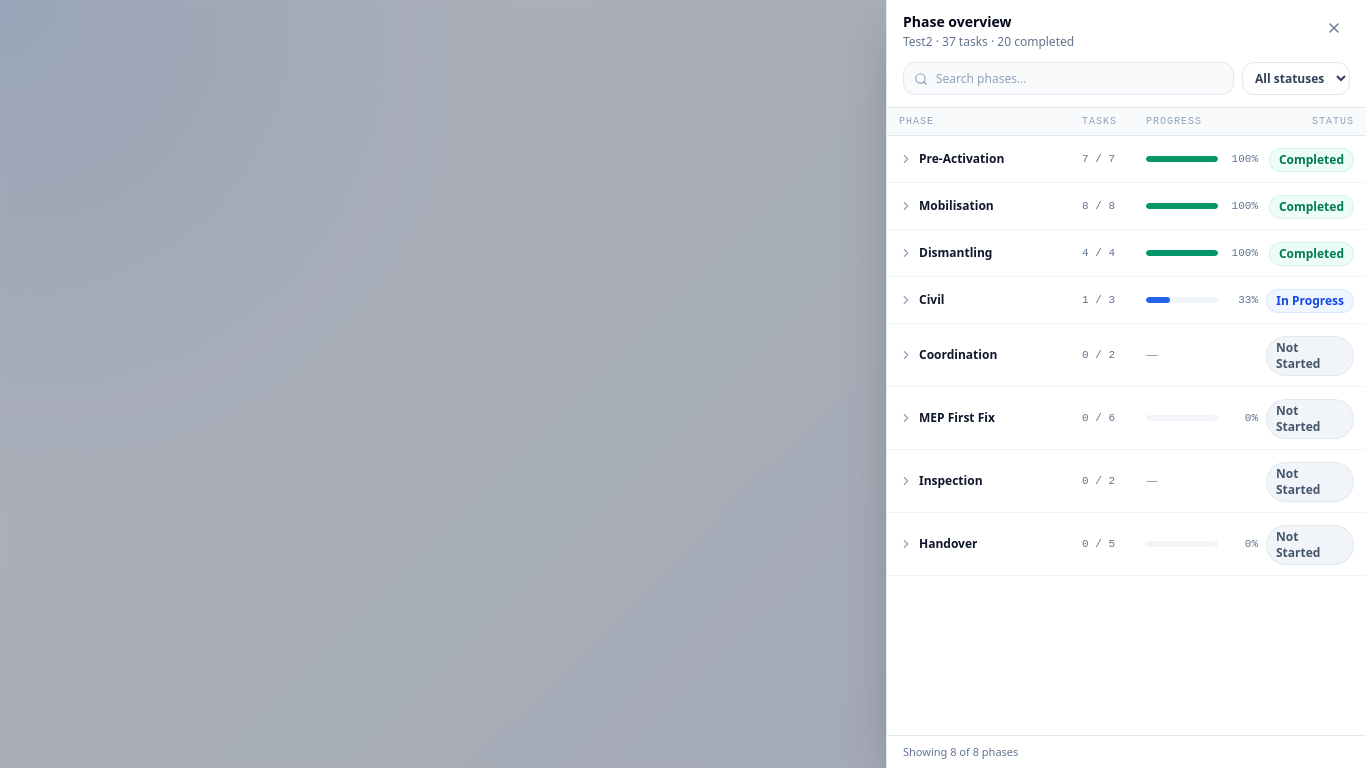
Test: Phase overview drawer › loads tasks once, on first expand
This screenshot has width=1366, height=768.
Click the button "Civil 1 / 3 33% In progress".
click(1182, 300)  # box [887,277,1365,324]
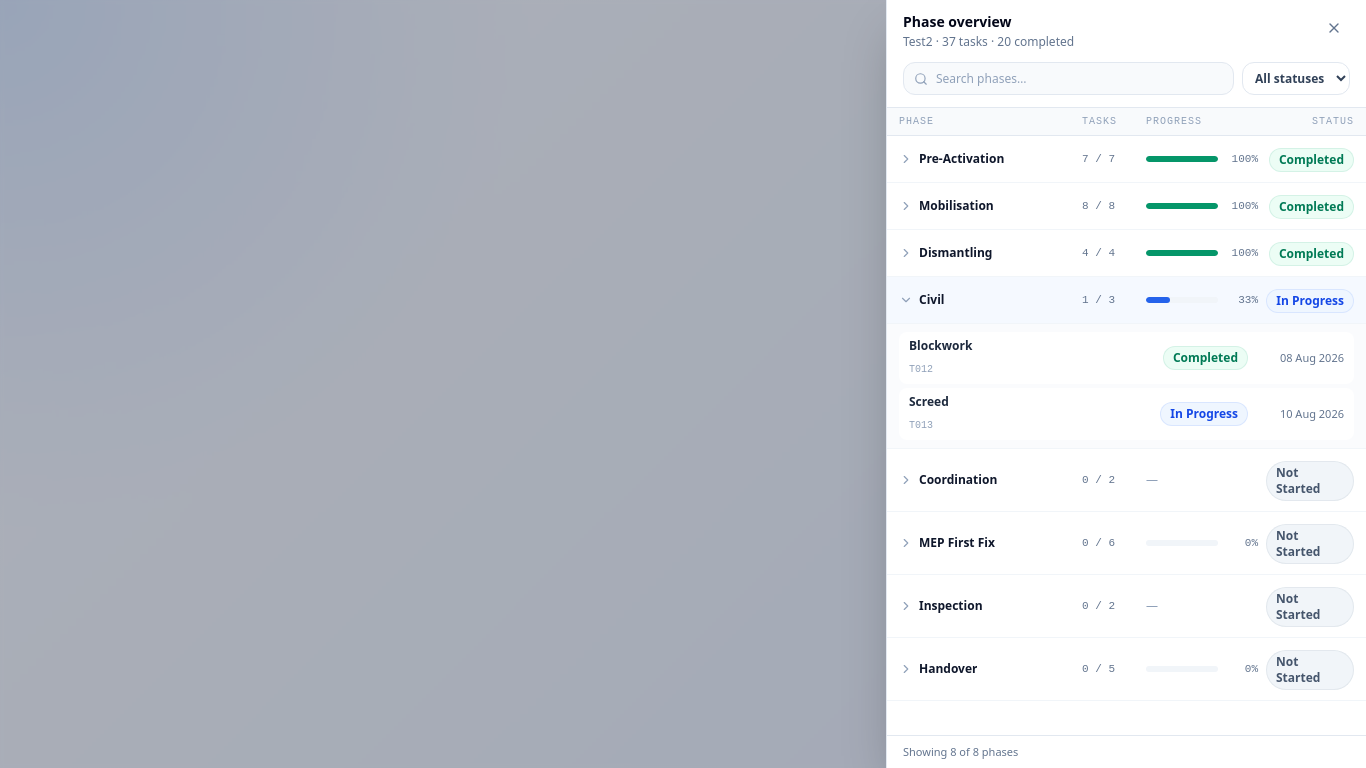
Check: the text "Conduiting" is not shown
Check: the text "Blockwork" is shown, box [909,337,972,354]
Check: the text "Screed" is shown, box [909,393,949,410]
Click the button "Civil 1 / 3 33% In progress".
click(1182, 300)  # box [887,277,1365,324]
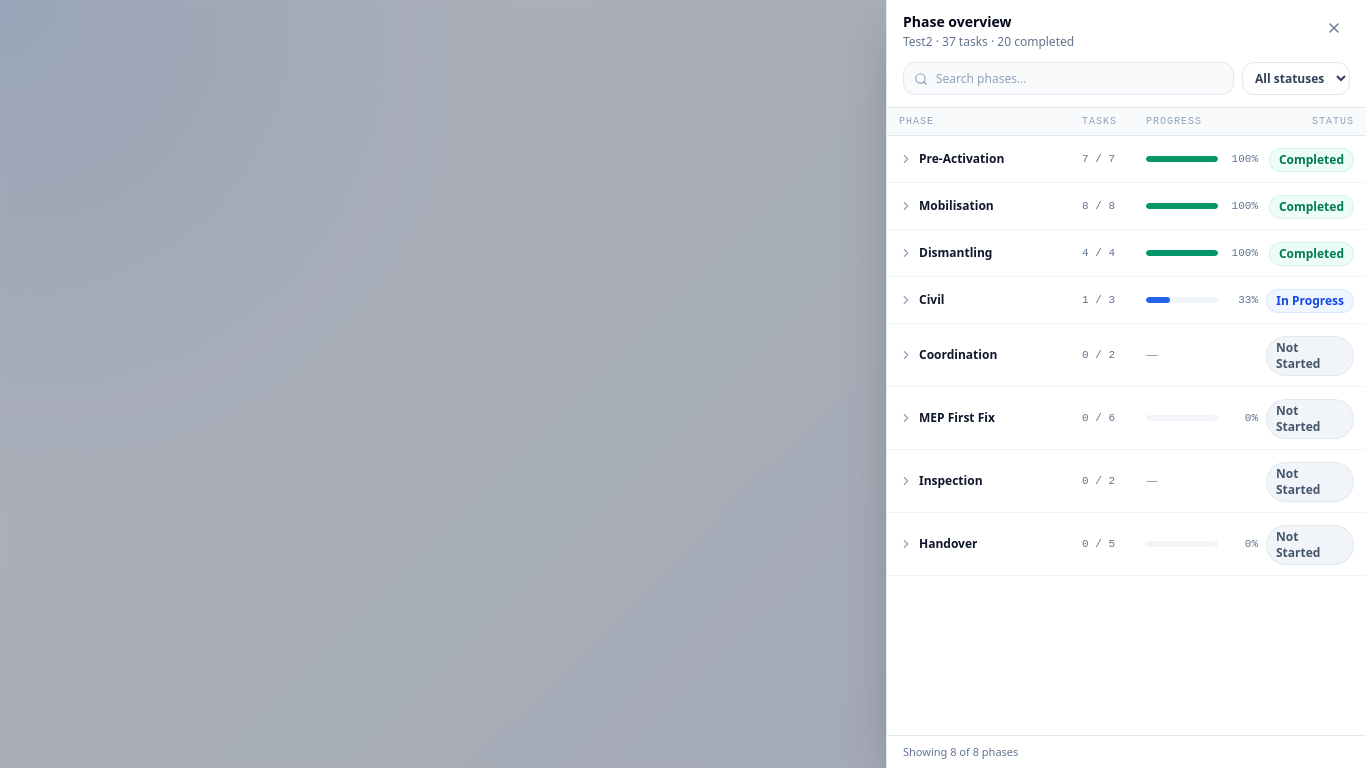
Click the button "MEP First Fix 0 / 6 0% Not started".
click(957, 418)  # box [887,387,1365,450]
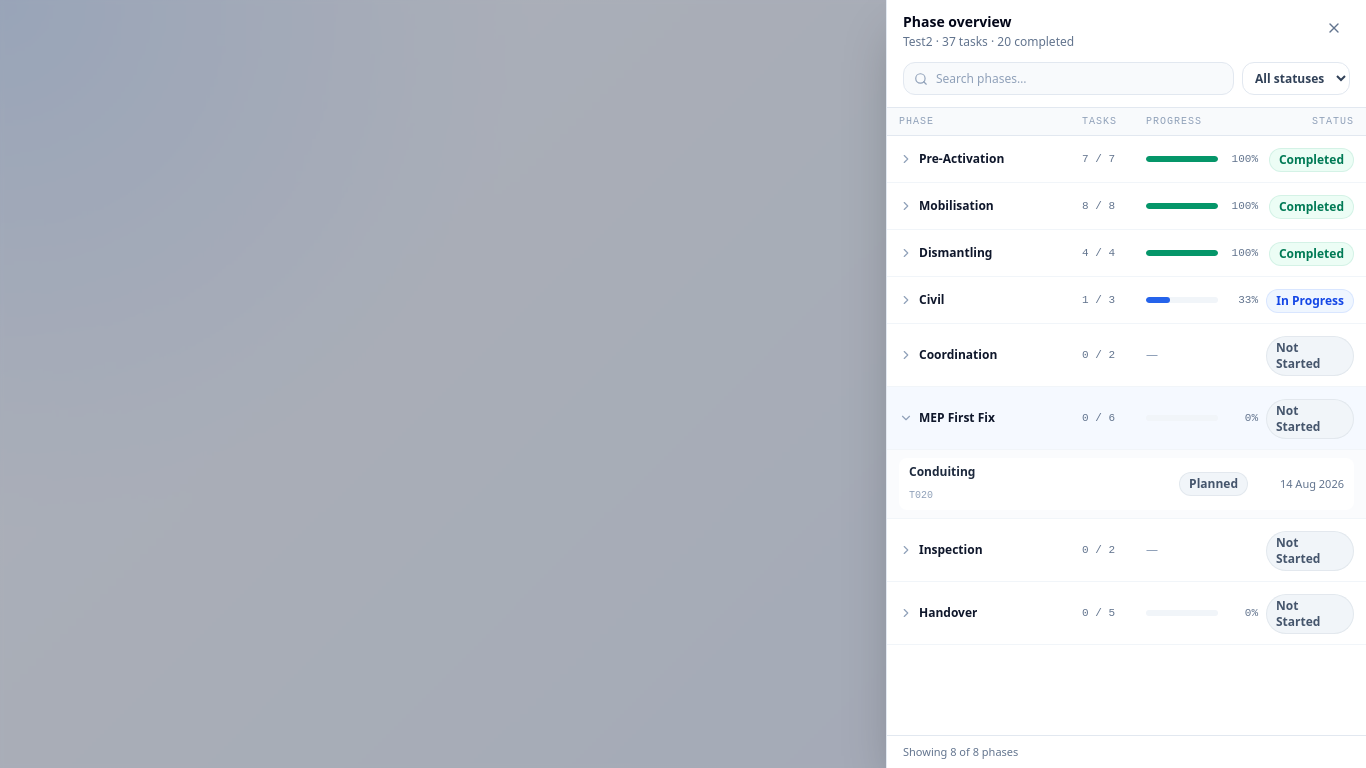
Check: the text "Conduiting" is shown, box [909,463,976,480]
